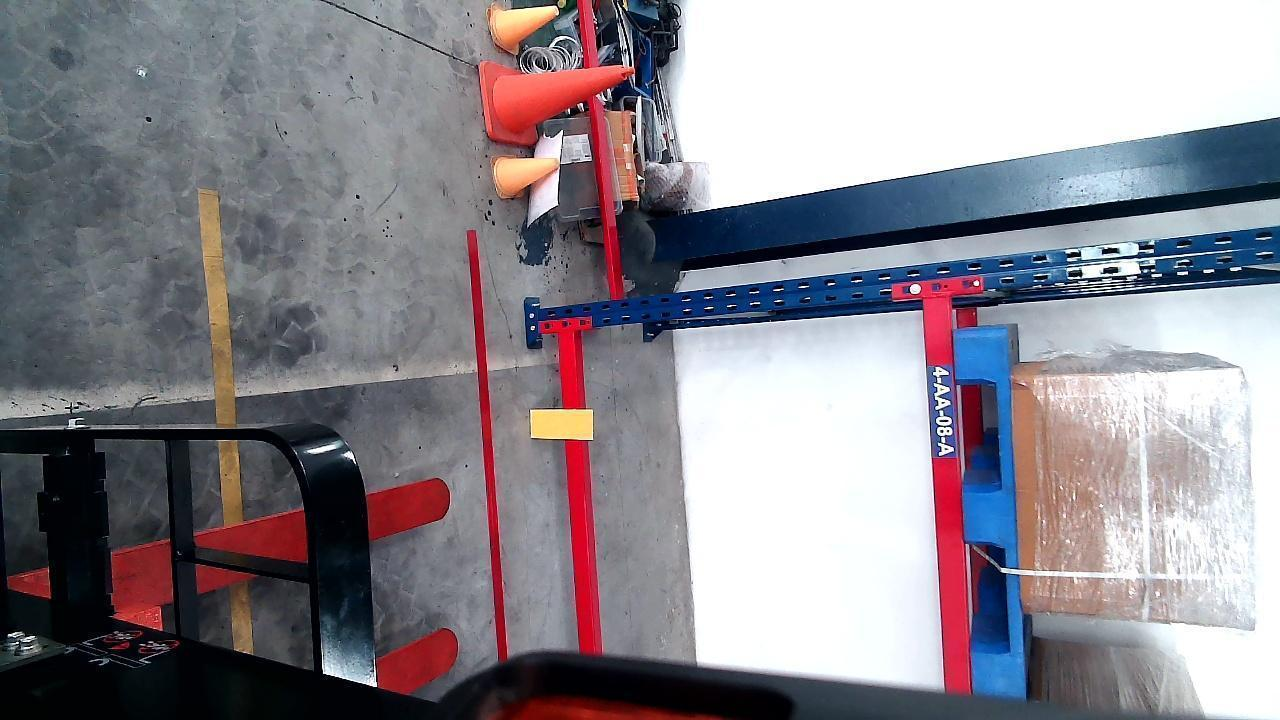red_line: (473, 234, 505, 663)
yellow_line: (200, 177, 245, 528)
